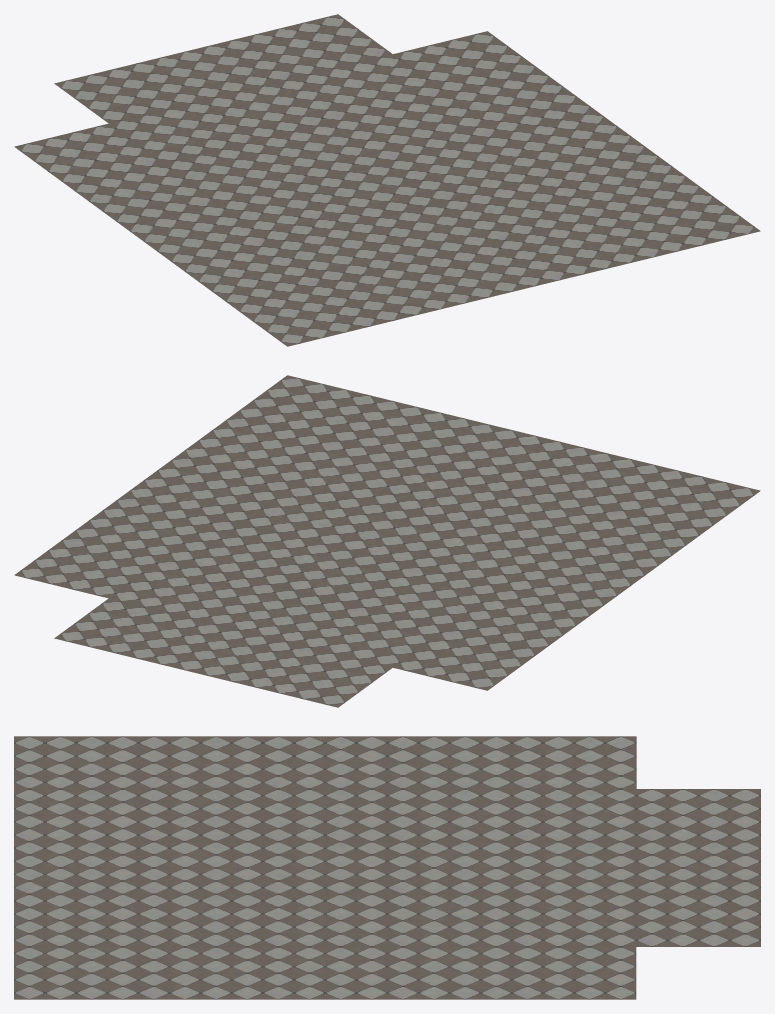
Rendered from Homeworld_Interior_Md_Room_P_Floor_01_Vo.fbx.
3 renders of one model, top to bottom at view 1: azimuth 30°, elevation 25°; view 2: azimuth 150°, elevation 25°; view 3: azimuth 270°, elevation 25°, orthographic. The views are drawn at different scales.
Parts seen in each view (by area): view 1: Homeworld_Interior_Md_Room_P_Floor_01_Vo; view 2: Homeworld_Interior_Md_Room_P_Floor_01_Vo; view 3: Homeworld_Interior_Md_Room_P_Floor_01_Vo.
Boxes of the visible parts, x1,y1,x2,y2 form: Homeworld_Interior_Md_Room_P_Floor_01_Vo: (14,14,760,346); Homeworld_Interior_Md_Room_P_Floor_01_Vo: (14,375,760,707); Homeworld_Interior_Md_Room_P_Floor_01_Vo: (14,736,760,999).
Size of the model in its own units: 25 by 2.19e-06 by 30.
1 material, 1 textured.
